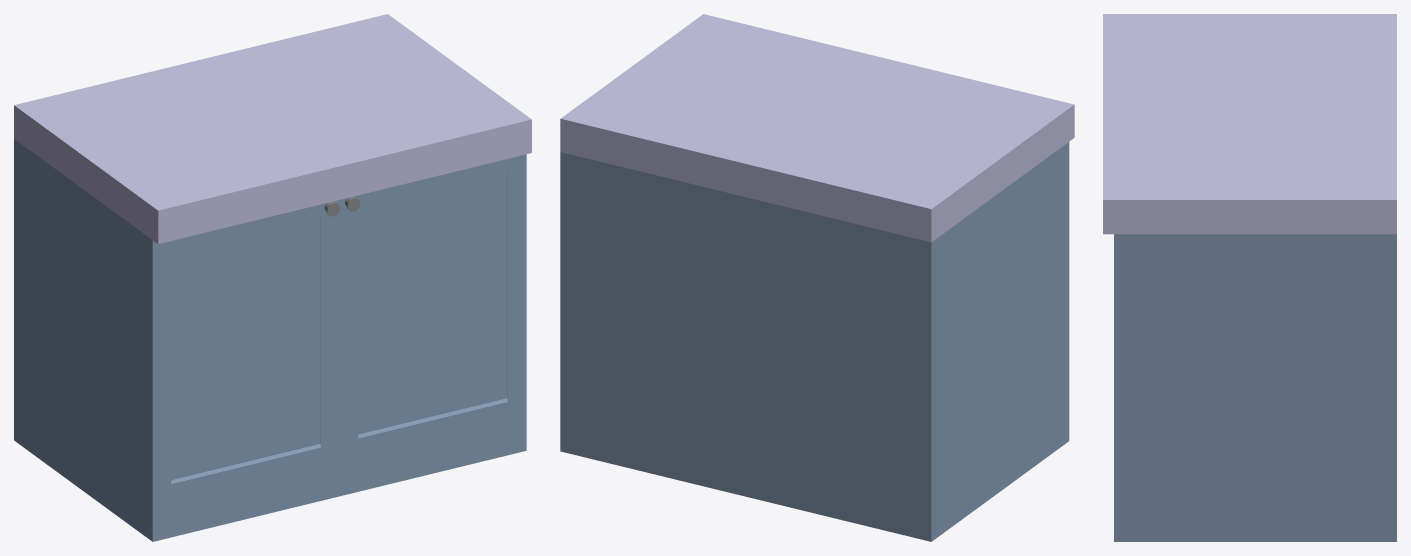
The model's file is CounterTop_Doors.fbx.
3 views of the same model, side by side, from view 1: azimuth 30°, elevation 25°; view 2: azimuth 150°, elevation 25°; view 3: azimuth 270°, elevation 25° (orthographic). The views are drawn at different scales.
Visible parts, largest first — view 1: Countertop_Doors; view 2: Countertop_Doors; view 3: Countertop_Doors.
Part boxes in pixels (bbox=[...]): Countertop_Doors: bbox=[14, 14, 531, 541]; Countertop_Doors: bbox=[560, 14, 1074, 541]; Countertop_Doors: bbox=[1103, 14, 1396, 541].
Size of the model in its own units: 1400 by 1200 by 935.
